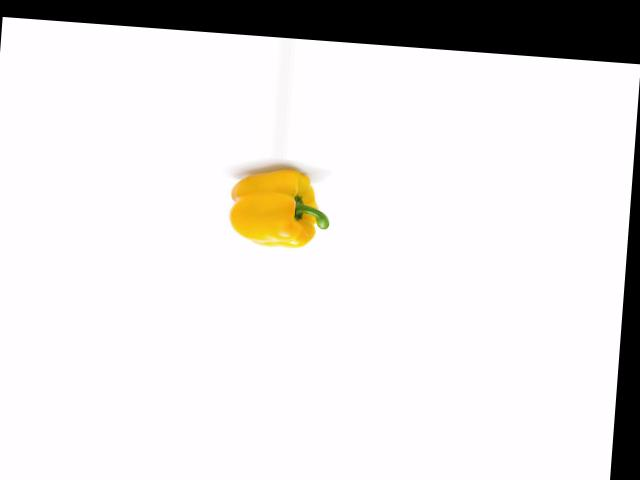bell_pepper: (223, 165, 341, 255)
